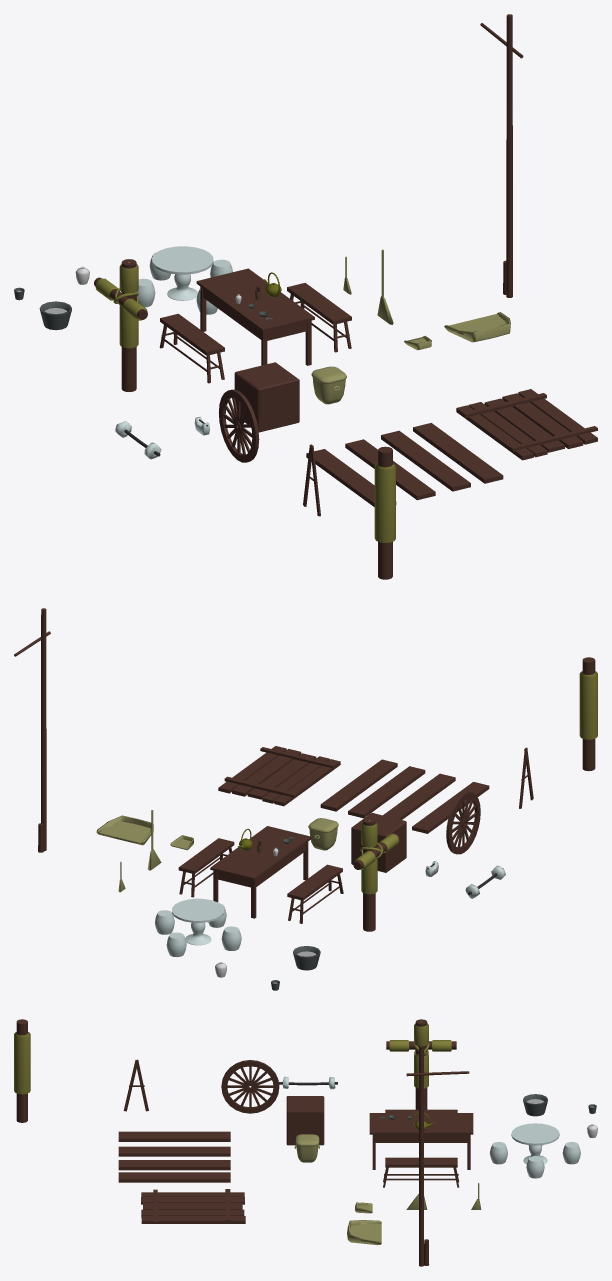
File: SceneObjects.fbx
3 views of the same model, one above another, from view 1: azimuth 30°, elevation 25°; view 2: azimuth 150°, elevation 25°; view 3: azimuth 270°, elevation 25° (orthographic). The views are drawn at different scales.
Parts seen in each view (by area): view 1: pCube55, polySurface3, pCube24, polySurface2, pCylinder34, pCylinder14, pPipe3, pCylinder3, pCube23, pCube39, pCube40, pCube17 (+4 smaller); view 2: pCube55, polySurface3, polySurface2, pCylinder34, pCube24, pCylinder14, pPipe3, pCylinder3, pCube23, pCube39, pCube40, pCube17 (+4 smaller); view 3: pCube55, polySurface3, pPipe3, pCube24, polySurface2, pCylinder34, pCylinder14, pCube39, pCube40, pCube41, pCube42, pCube17 (+8 smaller).
Boxes of the visible parts, bbox=[...] form: pCube55: bbox=[456, 389, 597, 460]; polySurface3: bbox=[196, 268, 314, 365]; pCube24: bbox=[234, 362, 299, 432]; polySurface2: bbox=[94, 259, 147, 391]; pCylinder34: bbox=[374, 446, 395, 579]; pCylinder14: bbox=[480, 14, 523, 297]; pPipe3: bbox=[219, 389, 259, 462]; pCylinder3: bbox=[152, 246, 213, 300]; pCube23: bbox=[159, 313, 224, 383]; pCube39: bbox=[413, 423, 503, 483]; pCube40: bbox=[381, 430, 470, 491]; pCube17: bbox=[287, 282, 351, 352]; pCube55: bbox=[218, 746, 340, 806]; polySurface3: bbox=[210, 826, 311, 918]; polySurface2: bbox=[353, 818, 399, 931]; pCylinder34: bbox=[579, 657, 597, 771]; pCube24: bbox=[351, 813, 406, 872]; pCylinder14: bbox=[14, 608, 50, 852]; pPipe3: bbox=[446, 792, 480, 854]; pCylinder3: bbox=[172, 898, 224, 945]; pCube23: bbox=[287, 864, 343, 923]; pCube39: bbox=[320, 759, 397, 811]; pCube40: bbox=[348, 766, 425, 818]; pCube17: bbox=[178, 838, 234, 897]; pCube55: bbox=[141, 1189, 245, 1223]; polySurface3: bbox=[369, 1113, 473, 1169]; pPipe3: bbox=[221, 1060, 279, 1113]; pCube24: bbox=[286, 1096, 324, 1145]; polySurface2: bbox=[386, 1019, 456, 1109]; pCylinder34: bbox=[14, 1019, 30, 1122]; pCylinder14: bbox=[406, 1045, 469, 1266]; pCube39: bbox=[118, 1172, 230, 1182]; pCube40: bbox=[118, 1160, 230, 1170]; pCube41: bbox=[118, 1146, 230, 1156]; pCube42: bbox=[118, 1131, 230, 1141]; pCube17: bbox=[383, 1157, 459, 1187].
Size of what is drawn, in the model's own units: 7.18 by 4.24 by 10.24.
